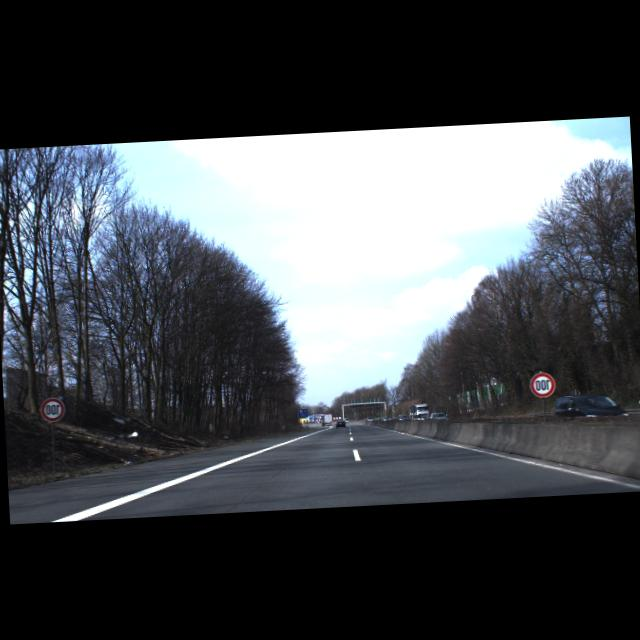prohibitory: (530, 372, 556, 398), (40, 396, 66, 420)
